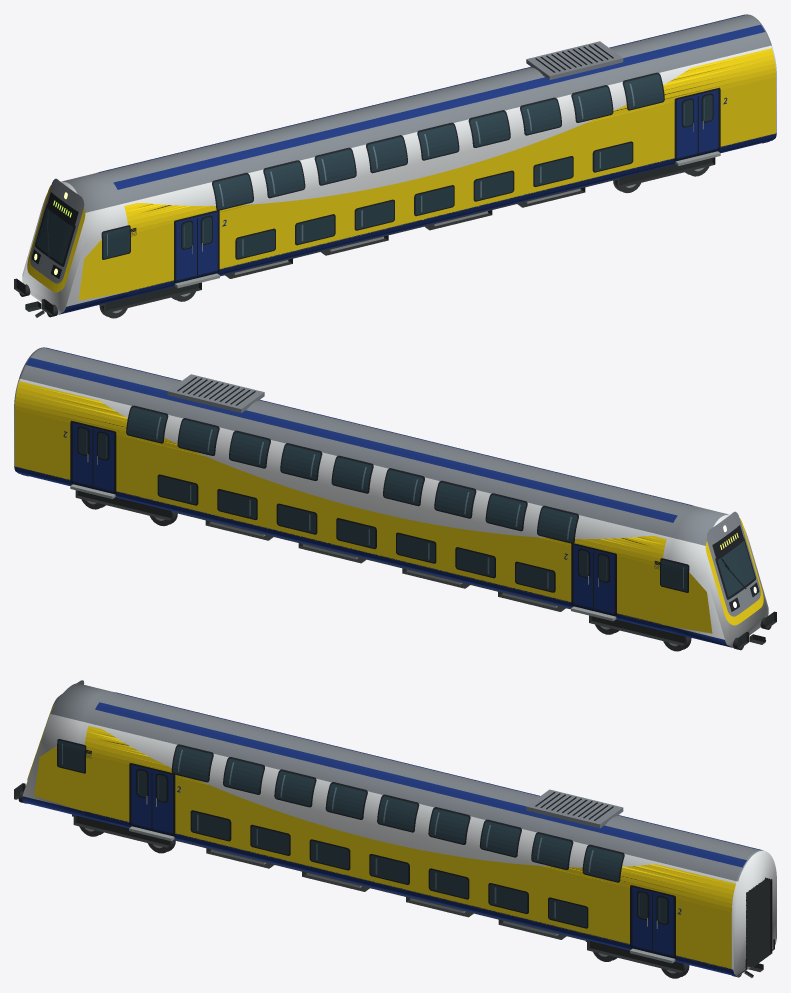
Rendered from metronom-cab-car.glb.
3 views of the same model, one above another, from view 1: azimuth 30°, elevation 25°; view 2: azimuth 150°, elevation 25°; view 3: azimuth 330°, elevation 25° (orthographic).
Parts seen in each view (by area): view 1: cab_car_continuous_shell, cab_car_yellow_curve_-1, cab_car_blue_roof_edge_-1, cab_car_blue_sill_-1, cab_car_yellow_cheek_-1, cab_car_door_blue_-1_1, cab_car_hvac_0, cab_car_door_blue_-1_0, cab_car_front_charcoal_mask, cab_car_panoramic_windscreen, cab_car_upper_-1_0_pane, cab_car_upper_-1_6_pane (+22 smaller); view 2: cab_car_continuous_shell, cab_car_yellow_curve_1, cab_car_blue_roof_edge_1, cab_car_blue_sill_1, cab_car_yellow_cheek_1, cab_car_door_blue_1_1, cab_car_hvac_0, cab_car_door_blue_1_0, cab_car_front_charcoal_mask, cab_car_bogie_0, cab_car_bogie_1, cab_car_panoramic_windscreen (+22 smaller); view 3: cab_car_continuous_shell, cab_car_yellow_curve_-1, cab_car_blue_roof_edge_-1, cab_car_blue_sill_-1, cab_car_yellow_cheek_-1, cab_car_hvac_0, cab_car_door_blue_-1_0, cab_car_door_blue_-1_1, cab_car_bellows_1_3, cab_car_upper_-1_1_pane, cab_car_upper_-1_4_pane, cab_car_upper_-1_6_pane (+20 smaller).
Part boxes in pixels (x1,y1,x2,y2): cab_car_continuous_shell: (22, 14, 776, 314); cab_car_yellow_curve_-1: (124, 48, 775, 291); cab_car_blue_roof_edge_-1: (113, 24, 764, 189); cab_car_blue_sill_-1: (127, 133, 775, 295); cab_car_yellow_cheek_-1: (78, 239, 128, 300); cab_car_door_blue_-1_1: (677, 90, 718, 159); cab_car_hvac_0: (526, 41, 623, 80); cab_car_door_blue_-1_0: (176, 212, 217, 281); cab_car_front_charcoal_mask: (30, 178, 84, 283); cab_car_panoramic_windscreen: (36, 208, 73, 263); cab_car_upper_-1_0_pane: (213, 174, 252, 209); cab_car_upper_-1_6_pane: (521, 99, 560, 134); cab_car_continuous_shell: (14, 347, 768, 647); cab_car_yellow_curve_1: (15, 381, 666, 624); cab_car_blue_roof_edge_1: (26, 357, 677, 522); cab_car_blue_sill_1: (15, 466, 663, 628); cab_car_yellow_cheek_1: (662, 572, 712, 633); cab_car_door_blue_1_1: (72, 423, 113, 492); cab_car_hvac_0: (167, 374, 264, 413); cab_car_door_blue_1_0: (573, 545, 614, 614); cab_car_front_charcoal_mask: (706, 511, 760, 616); cab_car_bogie_0: (589, 615, 691, 651); cab_car_bogie_1: (75, 490, 177, 526); cab_car_panoramic_windscreen: (717, 541, 754, 596); cab_car_continuous_shell: (22, 683, 776, 976); cab_car_yellow_curve_-1: (84, 726, 735, 968); cab_car_blue_roof_edge_-1: (95, 702, 746, 867); cab_car_blue_sill_-1: (84, 811, 732, 973); cab_car_yellow_cheek_-1: (34, 746, 83, 811); cab_car_hvac_0: (526, 789, 623, 828); cab_car_door_blue_-1_0: (131, 765, 172, 834); cab_car_door_blue_-1_1: (632, 887, 673, 956); cab_car_bellows_1_3: (751, 879, 772, 967); cab_car_upper_-1_1_pane: (224, 758, 263, 793); cab_car_upper_-1_4_pane: (378, 796, 417, 831); cab_car_upper_-1_6_pane: (481, 821, 520, 856).
Bounding box in the file's own units: 26.95 × 4.78 × 3.08.
